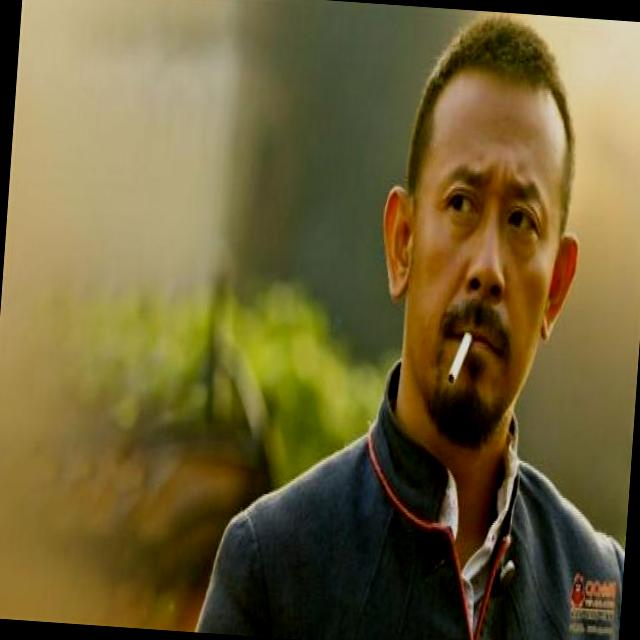cigarette: (442, 314, 474, 392)
